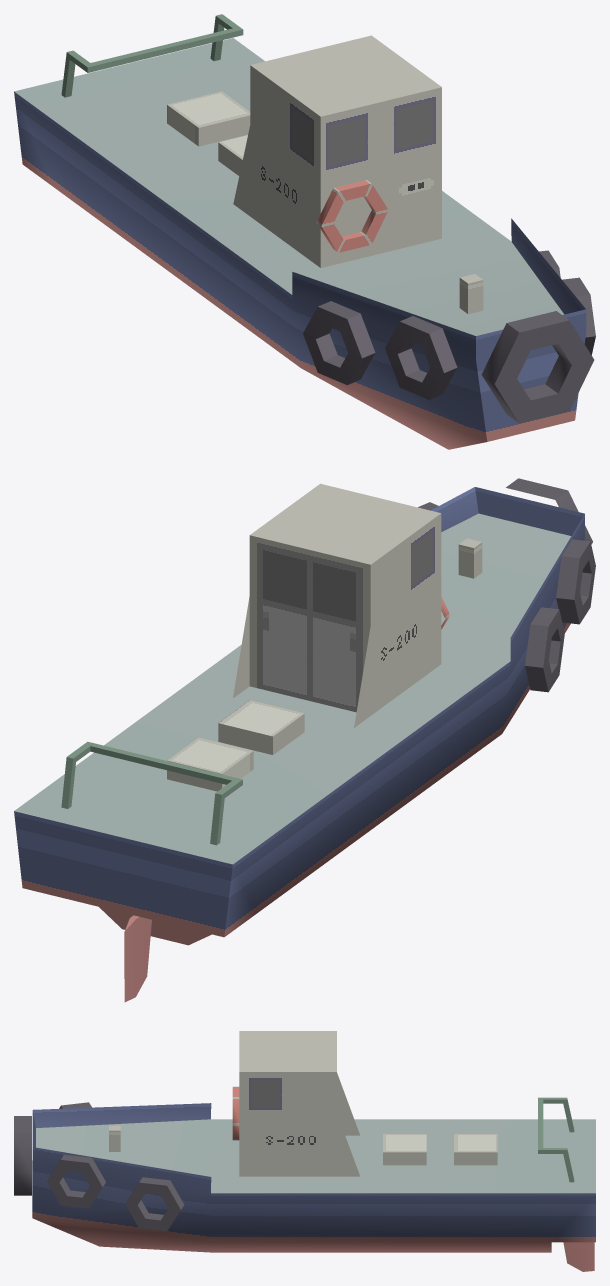
Rendered from 0288_Small_Fishing_Boat.glb.
3 views of the same model, one above another, from view 1: azimuth 30°, elevation 25°; view 2: azimuth 150°, elevation 25°; view 3: azimuth 270°, elevation 25° (orthographic). The views are drawn at different scales.
Visible parts, largest first — view 1: part_0; view 2: part_0; view 3: part_0.
Boxes of the visible parts, x1,y1,x2,y2 form: part_0: (14,14,595,449); part_0: (14,478,595,1002); part_0: (14,1031,595,1271).
Size of the model in its own units: 3.09 by 3.9 by 9.38.
1 material, 1 textured.
